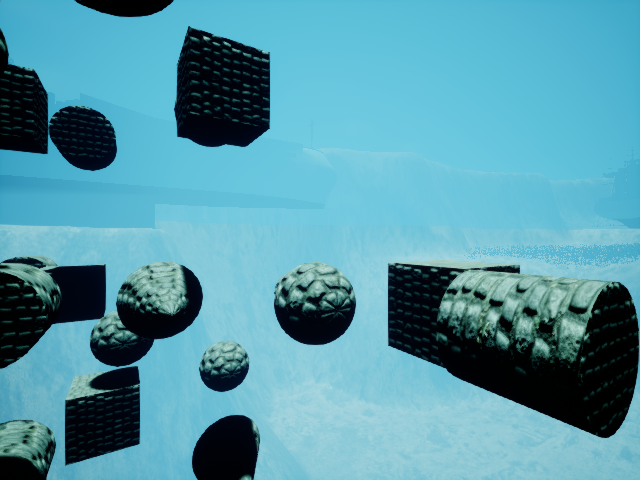Cone: (115, 261, 210, 348)
Cylinder: (42, 92, 125, 183)
Sphere: (268, 256, 367, 351), (197, 339, 251, 392)
